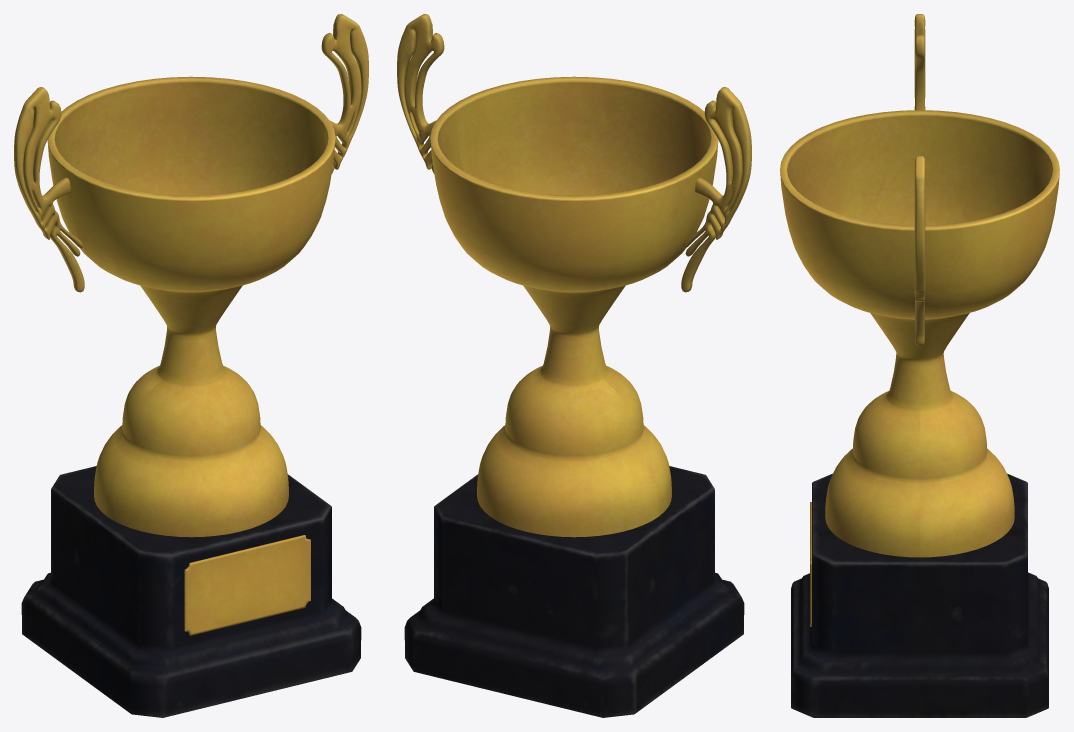
File: Trophy-Cup-Small.fbx
3 views of the same model, side by side, from view 1: azimuth 30°, elevation 25°; view 2: azimuth 150°, elevation 25°; view 3: azimuth 270°, elevation 25° (orthographic). The views are drawn at different scales.
Visible parts, largest first — view 1: Trophy Cup Small; view 2: Trophy Cup Small; view 3: Trophy Cup Small.
Part boxes in pixels (x1,y1,x2,y2): Trophy Cup Small: [14, 14, 368, 717]; Trophy Cup Small: [397, 14, 751, 717]; Trophy Cup Small: [780, 14, 1059, 717].
Size of the model in its own units: 18.7 by 30.3 by 13.23.
1 material, 1 textured.
